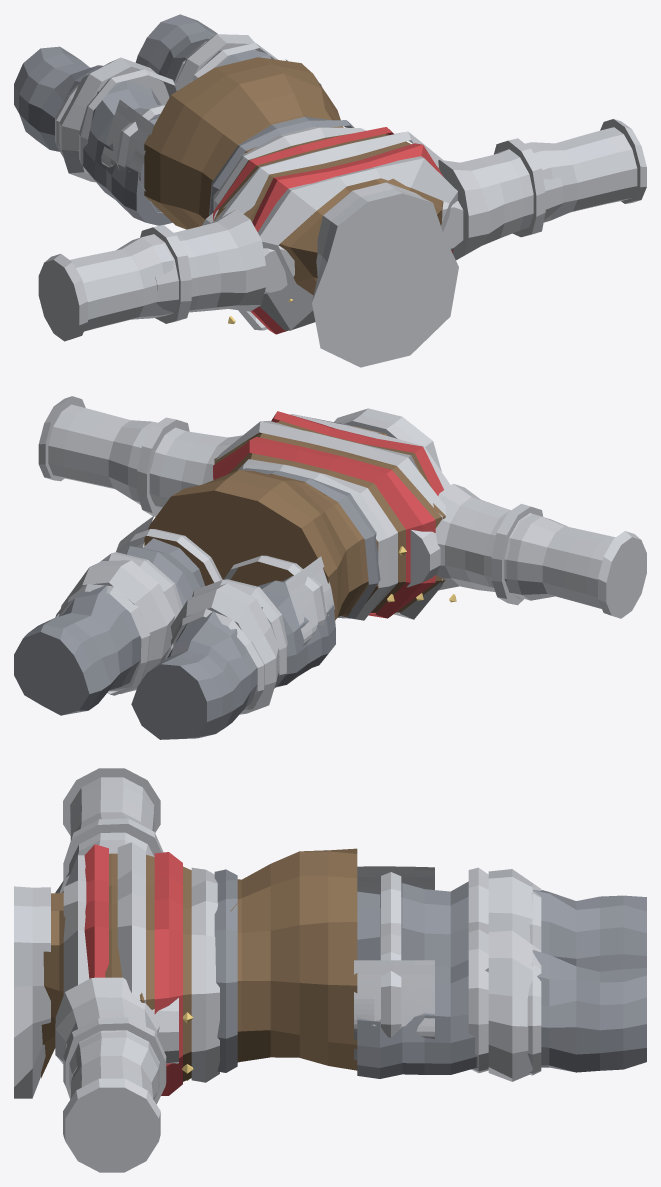
The model's file is armor_lamellar.glb.
3 views of the same model, one above another, from view 1: azimuth 30°, elevation 25°; view 2: azimuth 150°, elevation 25°; view 3: azimuth 270°, elevation 25° (orthographic). The views are drawn at different scales.
Parts seen in each view (by area): view 1: Torso, Abdomen, LowerArmR, UpperLegR, LowerArmL, UpperArmR, UpperArmL, LowerLegR, LowerLegL, UpperLegL; view 2: Abdomen, Torso, LowerLegL, LowerArmR, LowerLegR, UpperLegR, LowerArmL, UpperLegL, UpperArmR, UpperArmL; view 3: Abdomen, Torso, UpperLegL, LowerArmL, LowerLegL, UpperLegR, LowerLegR, LowerArmR, UpperArmL, UpperArmR.
Part boxes in pixels (box(x1,y1,x2,y2)): Torso: box(213, 126, 458, 367); Abdomen: box(101, 57, 354, 229); LowerArmR: box(38, 224, 191, 341); UpperLegR: box(59, 57, 176, 225); LowerArmL: box(494, 119, 646, 237); UpperArmR: box(152, 209, 294, 312); UpperArmL: box(438, 149, 562, 260); LowerLegR: box(14, 46, 102, 157); LowerLegL: box(135, 14, 217, 84); UpperLegL: box(175, 34, 278, 90); Abdomen: box(116, 468, 380, 645); Torso: box(213, 408, 456, 620); LowerLegL: box(14, 583, 150, 715); LowerArmR: box(491, 503, 646, 618); LowerLegR: box(131, 608, 264, 739); UpperLegR: box(170, 555, 335, 714); LowerArmL: box(38, 396, 189, 516); UpperLegL: box(59, 529, 222, 693); UpperArmR: box(407, 484, 534, 598); UpperArmL: box(149, 427, 242, 509); Abdomen: box(214, 848, 434, 1072); Torso: box(14, 842, 219, 1098); UpperLegL: box(357, 929, 532, 1081); LowerArmL: box(63, 1017, 166, 1172); LowerLegL: box(527, 945, 646, 1075); UpperLegR: box(357, 867, 532, 967); LowerLegR: box(529, 883, 646, 971); LowerArmR: box(63, 768, 163, 880); UpperArmL: box(55, 977, 178, 1089); UpperArmR: box(55, 832, 154, 893).
Size of the model in its own units: 2.24 by 0.7236 by 1.88.
